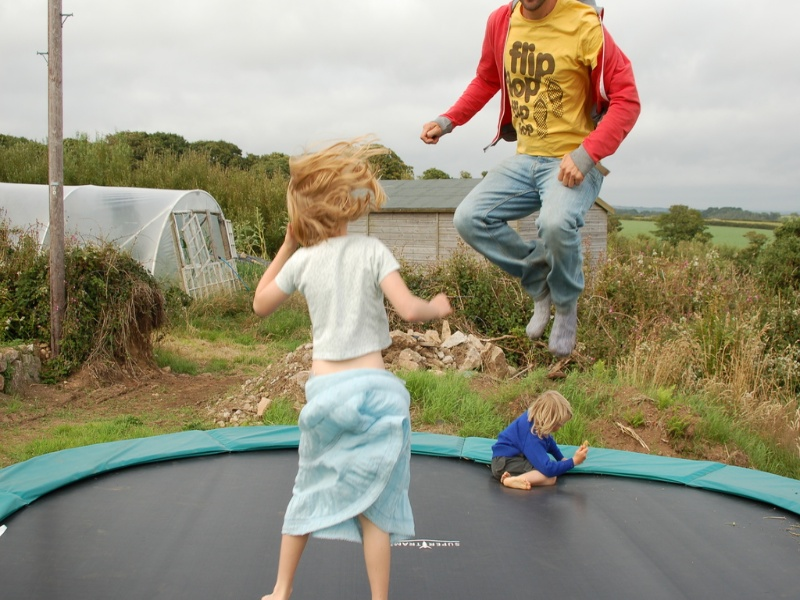person: (269, 141, 419, 600), (467, 1, 635, 372), (486, 385, 593, 500)
